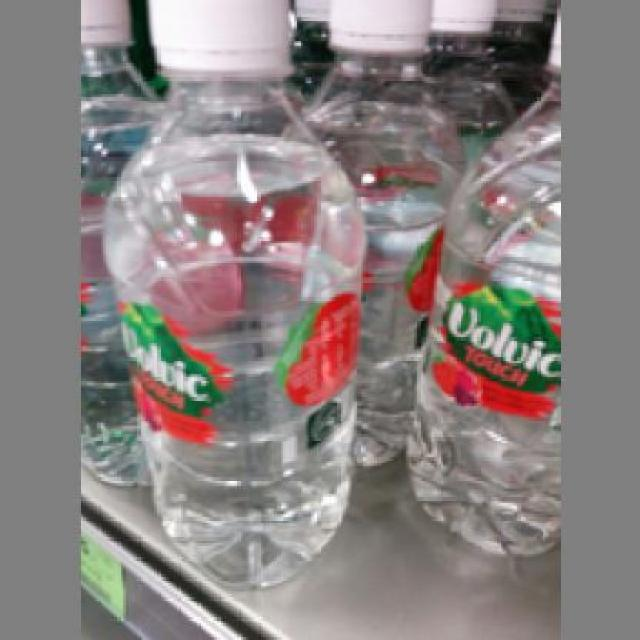Water: (91, 0, 360, 589), (402, 9, 558, 558)
